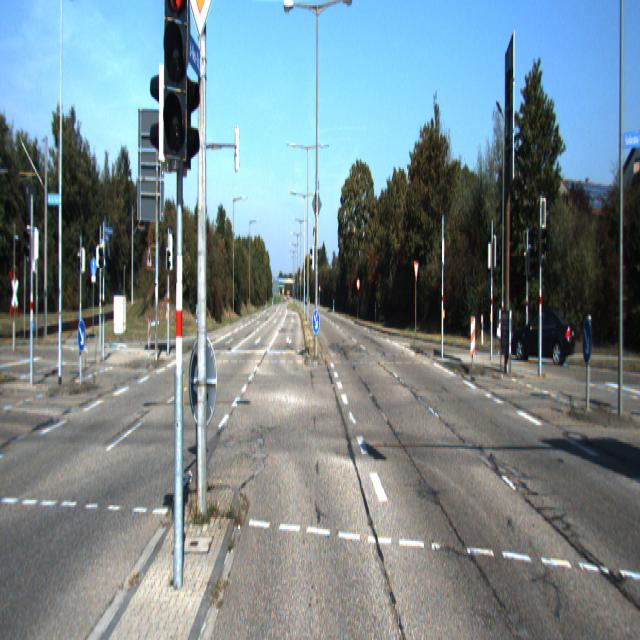Car: (510, 302, 573, 369)
DontCare: (280, 283, 320, 313)
